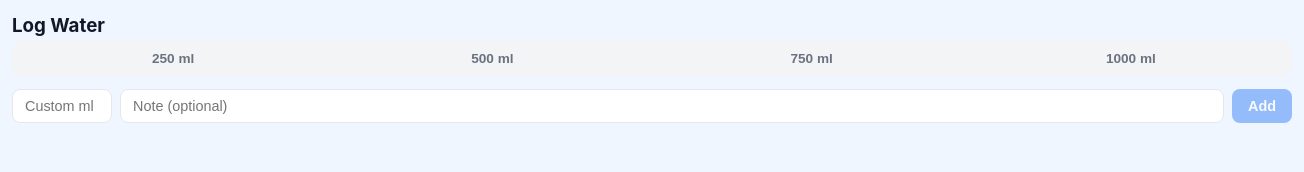
Scenario: AddWaterForm › selects preset and fills input on click
Click the button "250 ml" at (173, 59), box [15,43,331,74]
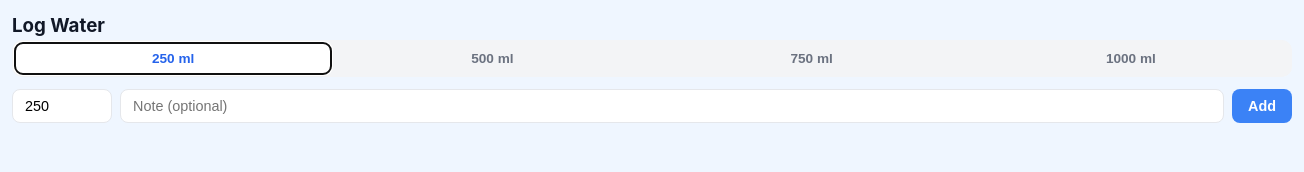
Check: the field with placeholder "Custom ml" holds "250", box [12,89,112,123]
